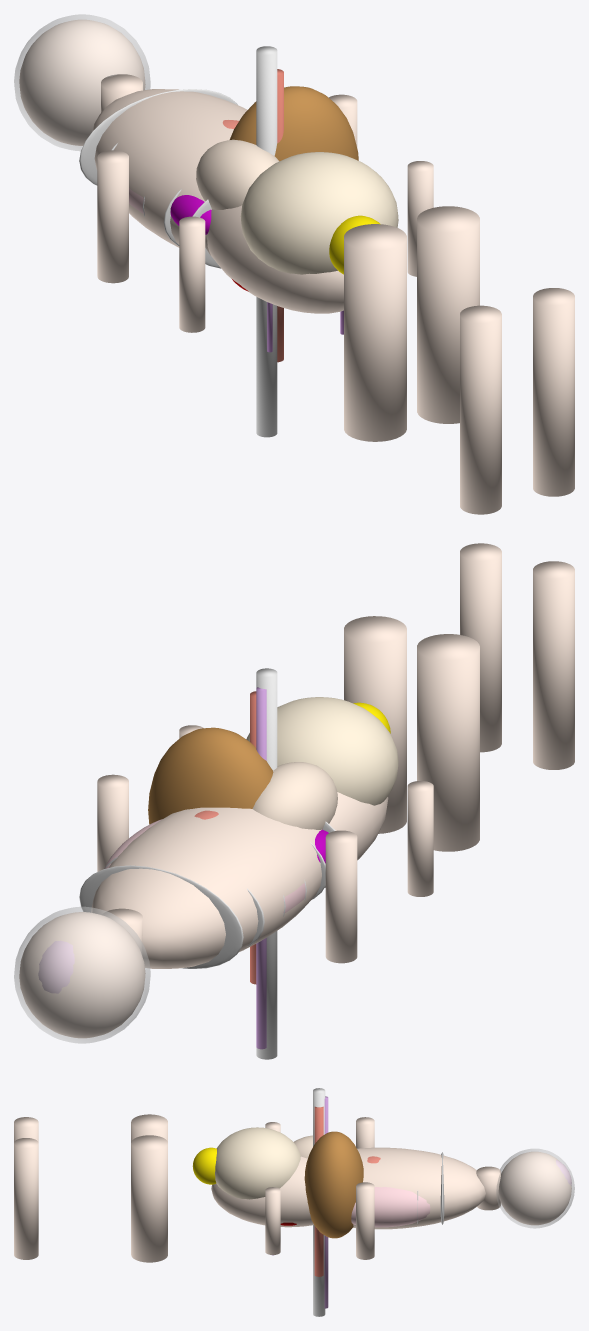
Rendered from human_anatomy.glb.
The picture shows the model from 3 angles, top to bottom: view 1: azimuth 30°, elevation 25°; view 2: azimuth 150°, elevation 25°; view 3: azimuth 270°, elevation 25°; orthographic projection. The views are drawn at different scales.
Parts seen in each view (by area): view 1: leg_upper_left, intestines, torso_upper, skull, leg_upper_right, head, leg_lower_left, leg_lower_right, torso_lower, spine, liver, arm_upper_left (+9 smaller); view 2: torso_upper, skull, leg_upper_left, head, intestines, leg_lower_left, liver, leg_upper_right, leg_lower_right, arm_upper_left, stomach, arm_lower_left (+8 smaller); view 3: torso_upper, skull, liver, intestines, leg_upper_right, head, leg_lower_right, torso_lower, lung_right, arm_upper_right, arm_lower_right, spine (+8 smaller).
Part boxes in pixels (x1=…): leg_upper_left: x1=344, y1=224, x2=406, y2=441; intestines: x1=240, y1=152, x2=398, y2=274; torso_upper: x1=92, y1=89, x2=247, y2=255; skull: x1=14, y1=14, x2=150, y2=151; leg_upper_right: x1=417, y1=206, x2=479, y2=423; head: x1=19, y1=19, x2=145, y2=145; leg_lower_left: x1=460, y1=305, x2=501, y2=514; leg_lower_right: x1=533, y1=288, x2=574, y2=496; torso_lower: x1=207, y1=205, x2=343, y2=313; spine: x1=256, y1=46, x2=277, y2=437; liver: x1=229, y1=86, x2=358, y2=161; arm_upper_left: x1=97, y1=150, x2=128, y2=283; torso_upper: x1=91, y1=807, x2=321, y2=968; skull: x1=14, y1=906, x2=150, y2=1043; leg_upper_left: x1=417, y1=634, x2=479, y2=851; head: x1=19, y1=912, x2=145, y2=1038; intestines: x1=246, y1=697, x2=398, y2=805; leg_lower_left: x1=533, y1=561, x2=574, y2=769; liver: x1=148, y1=727, x2=273, y2=824; leg_upper_right: x1=344, y1=616, x2=406, y2=833; leg_lower_right: x1=460, y1=543, x2=501, y2=752; arm_upper_left: x1=325, y1=830, x2=357, y2=963; stomach: x1=252, y1=762, x2=337, y2=829; arm_lower_left: x1=407, y1=781, x2=433, y2=896; torso_upper: x1=353, y1=1147, x2=485, y2=1229; skull: x1=496, y1=1148, x2=574, y2=1228; liver: x1=304, y1=1131, x2=363, y2=1238; intestines: x1=215, y1=1127, x2=300, y2=1199; leg_upper_right: x1=131, y1=1135, x2=167, y2=1262; head: x1=498, y1=1151, x2=571, y2=1225; leg_lower_right: x1=14, y1=1138, x2=38, y2=1259; torso_lower: x1=211, y1=1156, x2=313, y2=1227; lung_right: x1=351, y1=1187, x2=430, y2=1227; arm_upper_right: x1=356, y1=1182, x2=374, y2=1259; arm_lower_right: x1=265, y1=1187, x2=280, y2=1254; spine: x1=313, y1=1088, x2=325, y2=1316.
Bounding box in the file's own units: 0.56 × 0.8 × 1.82.
